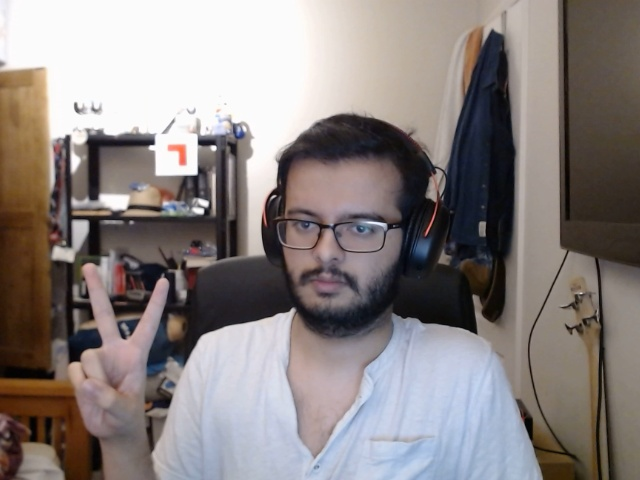Peace: (57, 252, 191, 447)
